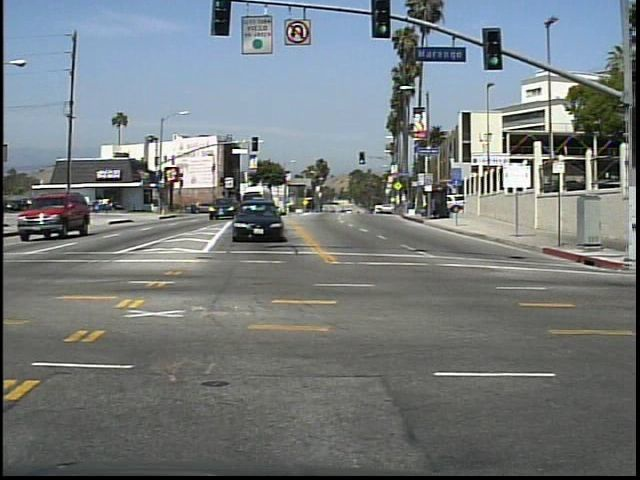person: (59, 192, 76, 220)
